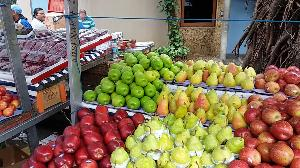apple: (26, 105, 135, 168), (238, 60, 300, 168), (74, 46, 178, 104), (0, 86, 20, 123)
pear: (118, 126, 240, 168), (158, 90, 250, 117), (173, 62, 257, 86)
